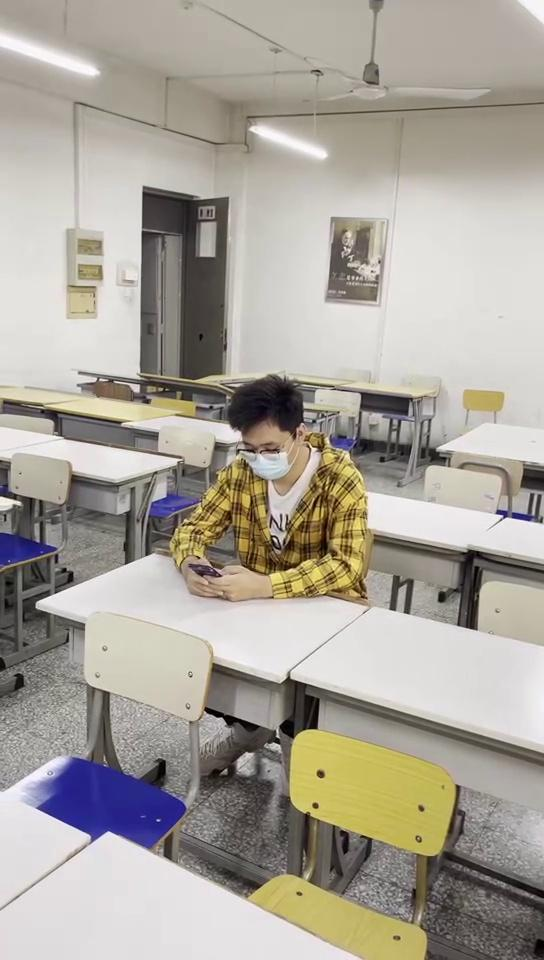phone: (176, 378, 367, 600)
